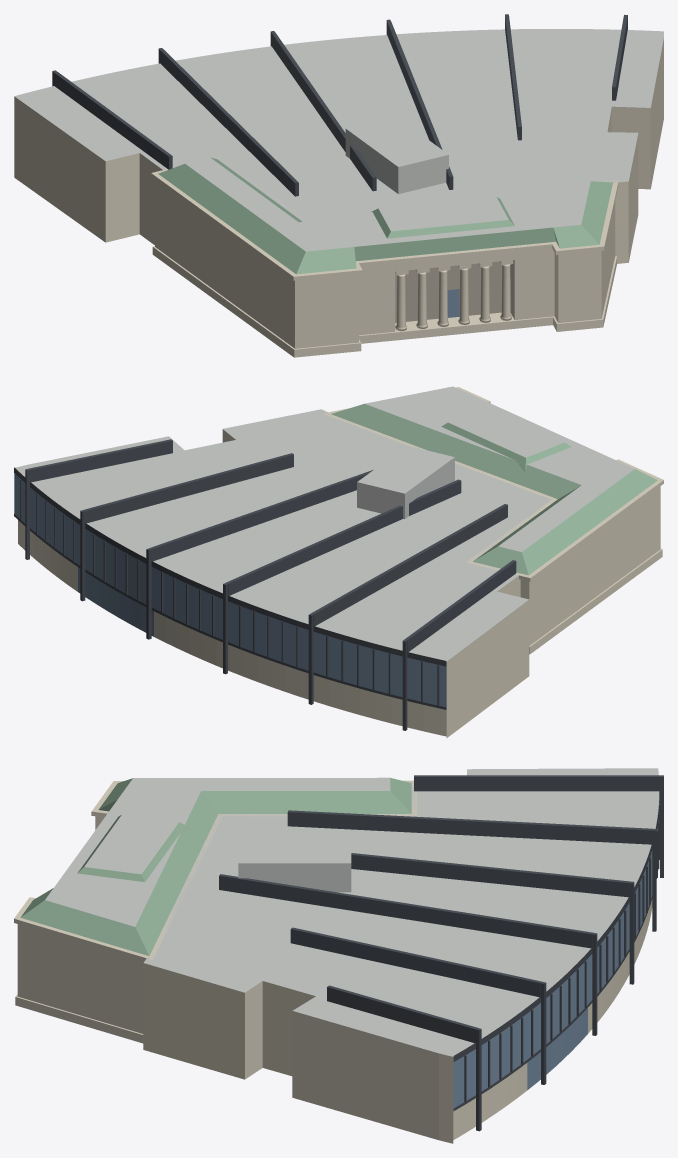
File: hou-mfah-law-building.glb
3 renders of one model, top to bottom at view 1: azimuth 30°, elevation 25°; view 2: azimuth 150°, elevation 25°; view 3: azimuth 270°, elevation 25°, orthographic. The views are drawn at different scales.
Visible parts, largest first — view 1: Caroline Wiess Law Building; view 2: Caroline Wiess Law Building; view 3: Caroline Wiess Law Building.
Boxes of the visible parts, bbox=[...] form: Caroline Wiess Law Building: bbox=[14, 14, 663, 357]; Caroline Wiess Law Building: bbox=[14, 386, 663, 737]; Caroline Wiess Law Building: bbox=[14, 768, 663, 1143].
Bounding box in the file's own units: 87.64 × 16.4 × 83.36.
